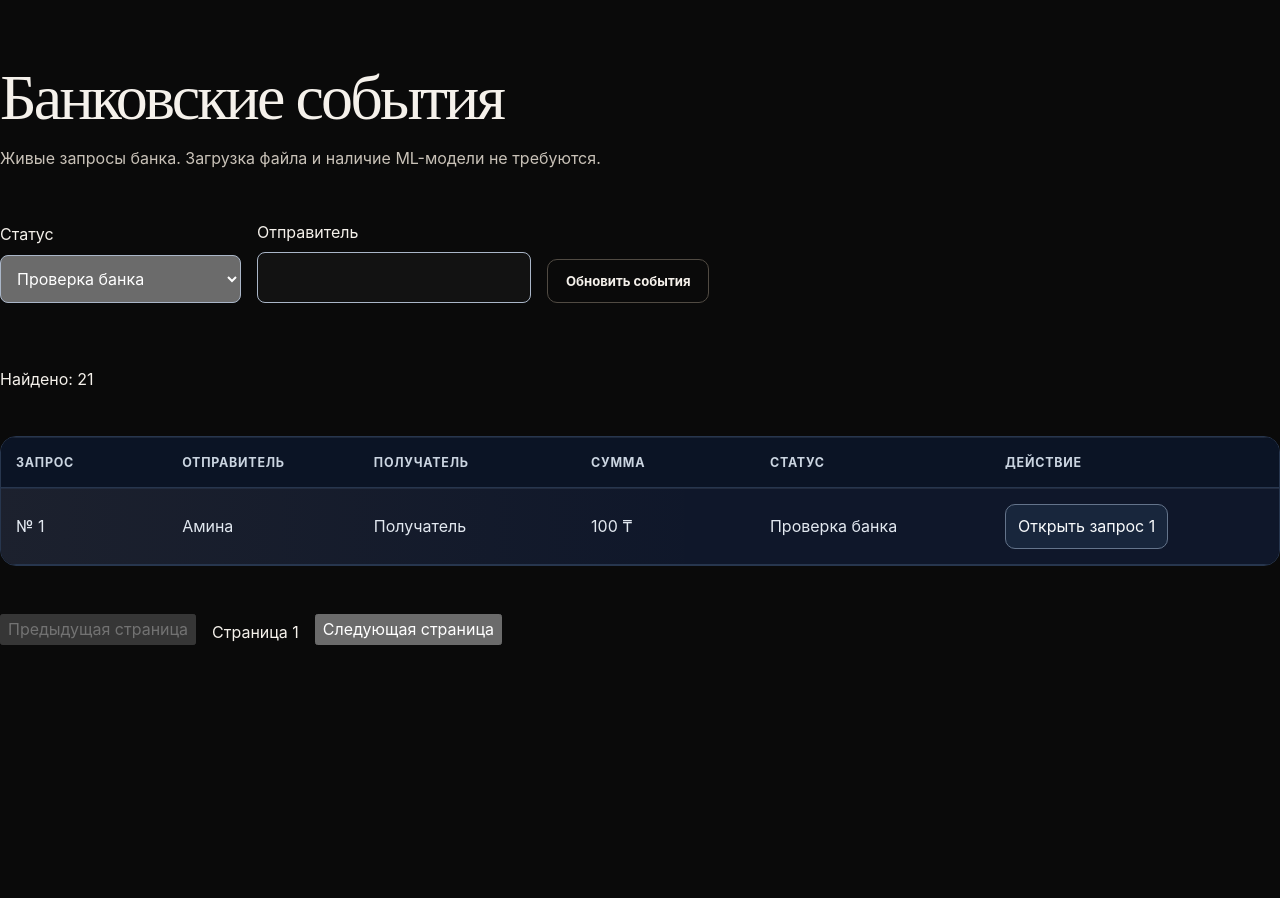
never offers an employee override while family voting is pending
This screenshot has width=1280, height=898.
Click the button "Открыть запрос 1" at (1087, 527), box x1=1005 y1=504 x2=1168 y2=549
(page scrolled)
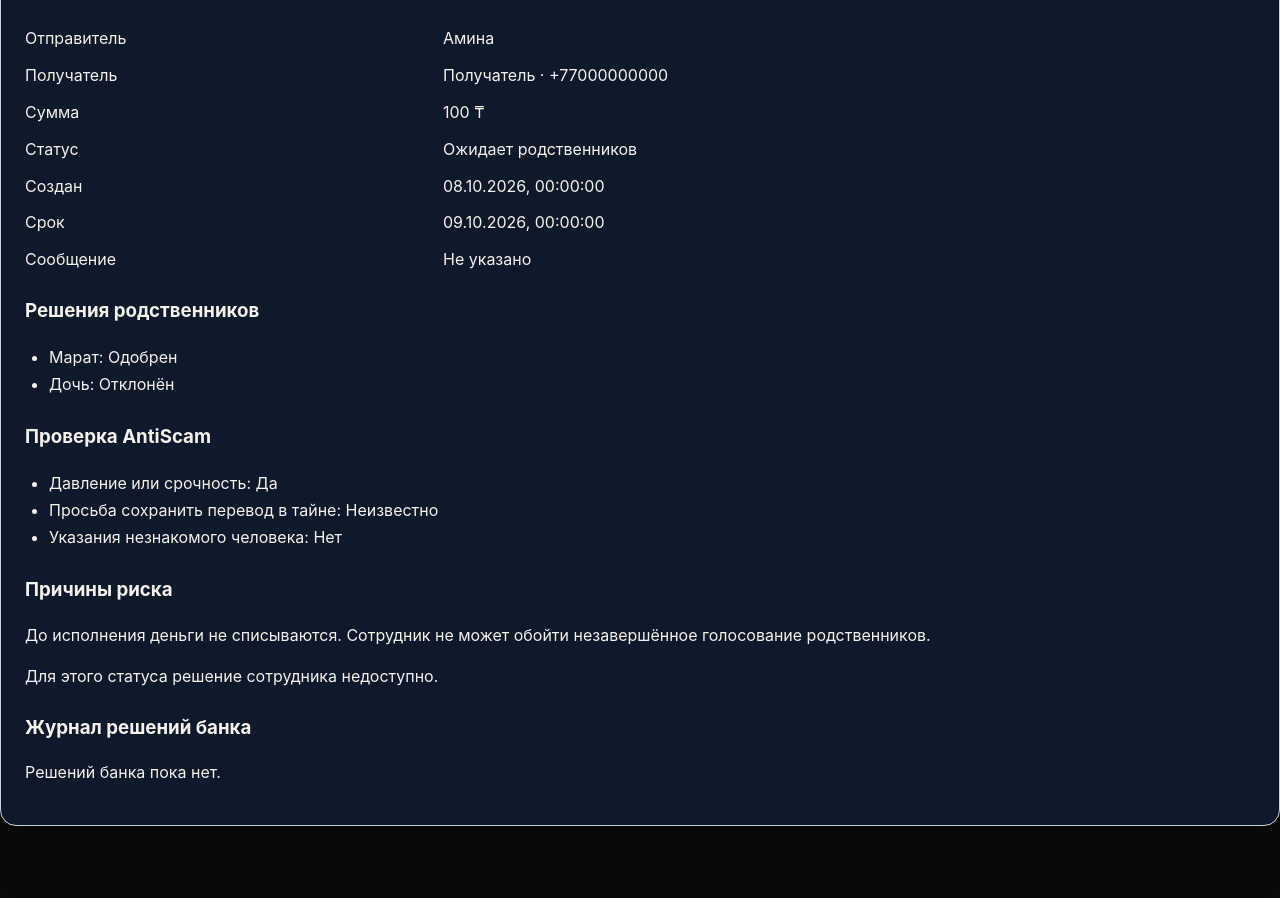
Now the text "Для этого статуса решение сотрудника недоступно." is shown, box x1=25 y1=666 x2=438 y2=686
